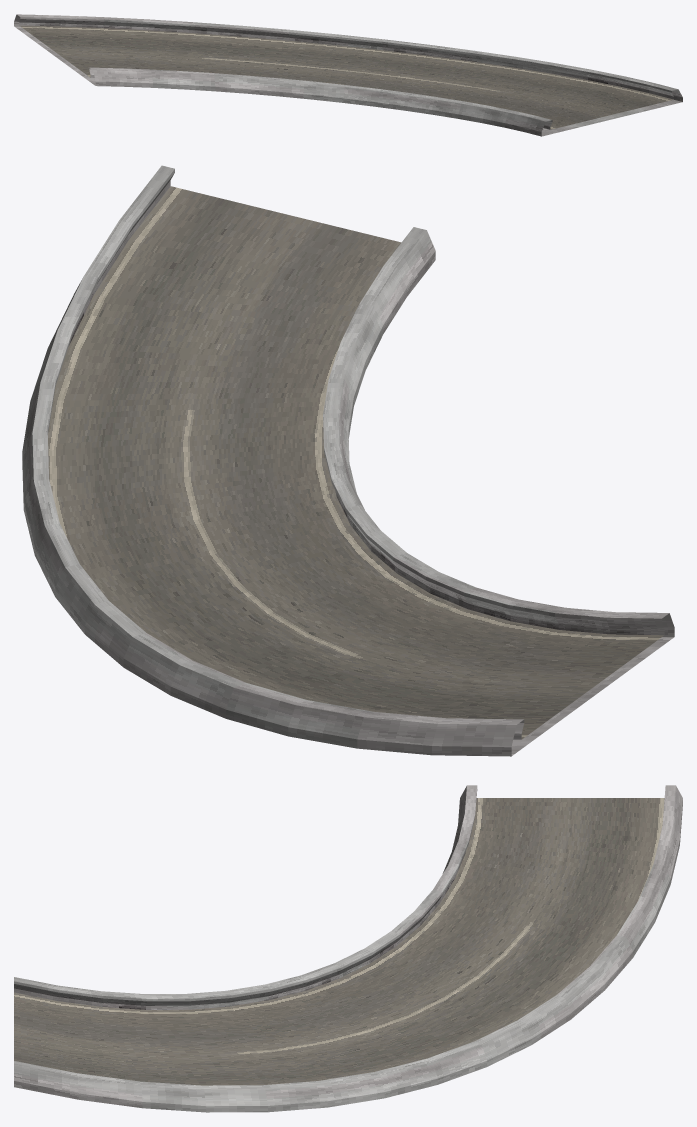
The model's file is turn-left3x3.glb.
The picture shows the model from 3 angles, top to bottom: view 1: azimuth 30°, elevation 25°; view 2: azimuth 150°, elevation 25°; view 3: azimuth 270°, elevation 25°; orthographic projection. The views are drawn at different scales.
Visible parts, largest first — view 1: road-Turn-BiSlopeDown-BiSlopeUp-Even-Left-Size3; view 2: road-Turn-BiSlopeDown-BiSlopeUp-Even-Left-Size3; view 3: road-Turn-BiSlopeDown-BiSlopeUp-Even-Left-Size3.
Part boxes in pixels (x1,y1,x2,y2): road-Turn-BiSlopeDown-BiSlopeUp-Even-Left-Size3: [14, 14, 682, 136]; road-Turn-BiSlopeDown-BiSlopeUp-Even-Left-Size3: [22, 165, 674, 756]; road-Turn-BiSlopeDown-BiSlopeUp-Even-Left-Size3: [14, 785, 682, 1112].
Bounding box in the file's own units: 3 × 0.4043 × 3.
Materials: 2 (2 with a texture image).
